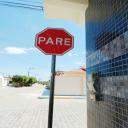Pare: (34, 27, 74, 57)
